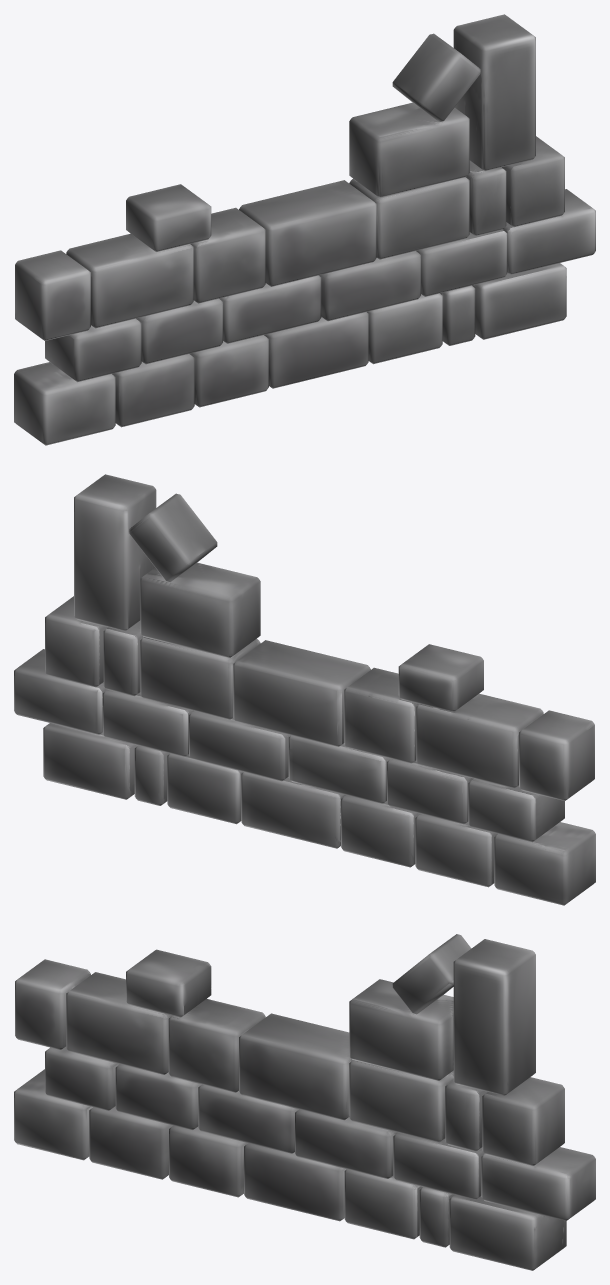
File: RuinsWall.glb
3 renders of one model, top to bottom at view 1: azimuth 30°, elevation 25°; view 2: azimuth 150°, elevation 25°; view 3: azimuth 330°, elevation 25°, orthographic.
Parts seen in each view (by area): view 1: Wall; view 2: Wall; view 3: Wall.
Part boxes in pixels (x1=…): Wall: x1=14, y1=14, x2=595, y2=445; Wall: x1=14, y1=474, x2=595, y2=905; Wall: x1=14, y1=934, x2=595, y2=1270.
Size of the model in its own units: 10.56 by 5.31 by 1.13.
Materials: 1 (1 with a texture image).
